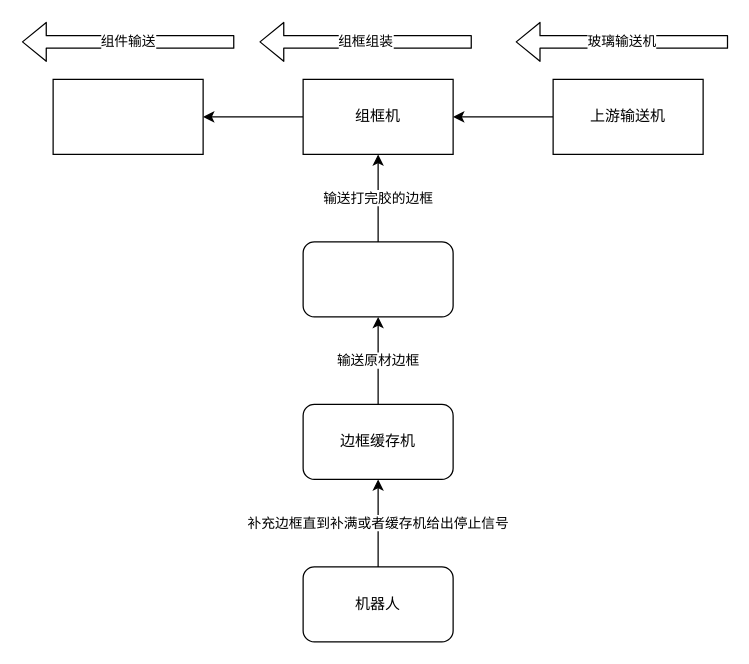
This 749x664 diagram has some shape labels left out. Each missing label, with the centre of its shape:
"下游输送机" goes at (x=127, y=116).
"打胶机" goes at (x=377, y=279).
